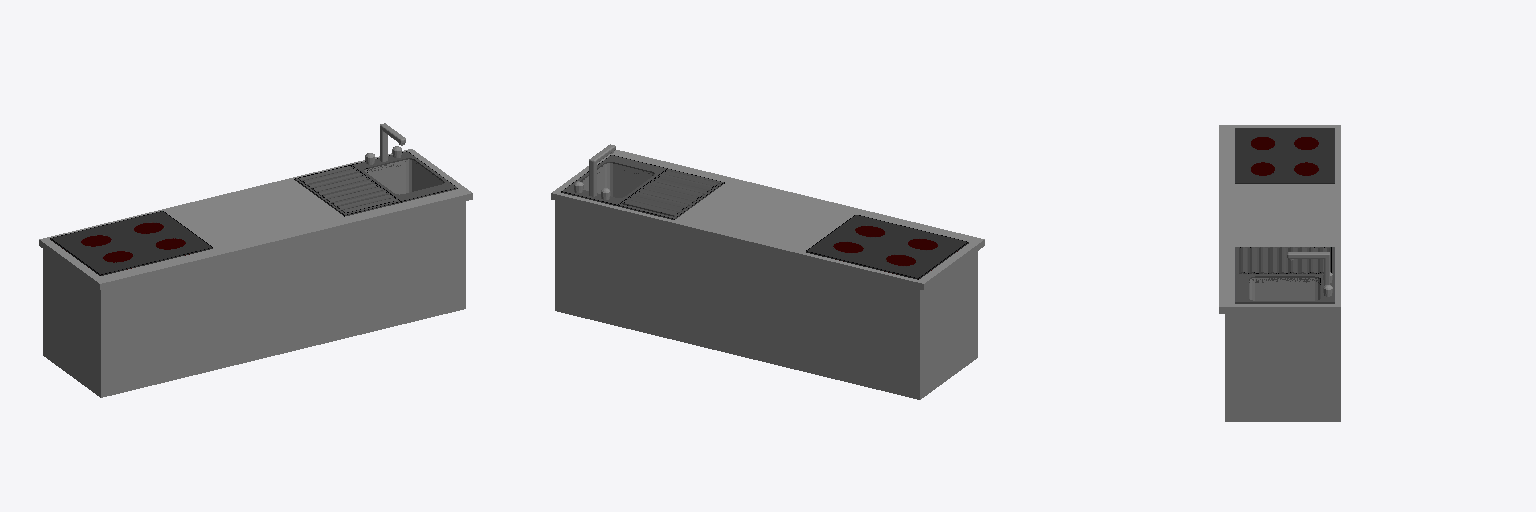
3 renders of one model, left to right at view 1: azimuth 30°, elevation 25°; view 2: azimuth 150°, elevation 25°; view 3: azimuth 270°, elevation 25°, orthographic.
Parts seen in each view (by area): view 1: Box002, Box001, Box003, Box005, Box007, Box014, Box008, Box006, Box009, Box012, Box010; view 2: Box001, Box002, Box009, Box012, Box010, Box011; view 3: Box001, Box002, Box009, Box012, Box010.
Boxes of the visible parts, box(x1,y1,x2,y2) form: Box002: box(39, 149, 472, 289); Box001: box(43, 166, 437, 395); Box003: box(99, 276, 161, 397); Box005: box(223, 246, 283, 367); Box007: box(405, 201, 465, 323); Box014: box(162, 261, 222, 382); Box008: box(344, 216, 404, 338); Box006: box(284, 231, 343, 352); Box009: box(50, 211, 212, 275); Box012: box(298, 165, 396, 212); Box010: box(352, 151, 457, 202); Box001: box(555, 170, 975, 399); Box002: box(551, 150, 984, 289); Box009: box(806, 215, 968, 279); Box012: box(622, 170, 719, 216); Box010: box(561, 155, 667, 205); Box011: box(618, 169, 724, 219); Box001: box(1229, 284, 1340, 421); Box002: box(1219, 125, 1340, 313); Box009: box(1235, 128, 1334, 183); Box012: box(1239, 247, 1331, 273); Box010: box(1235, 275, 1334, 303).
Bounding box in the file's own units: 118 × 46.8 × 33.46.
Materials: 5 (3 with a texture image).